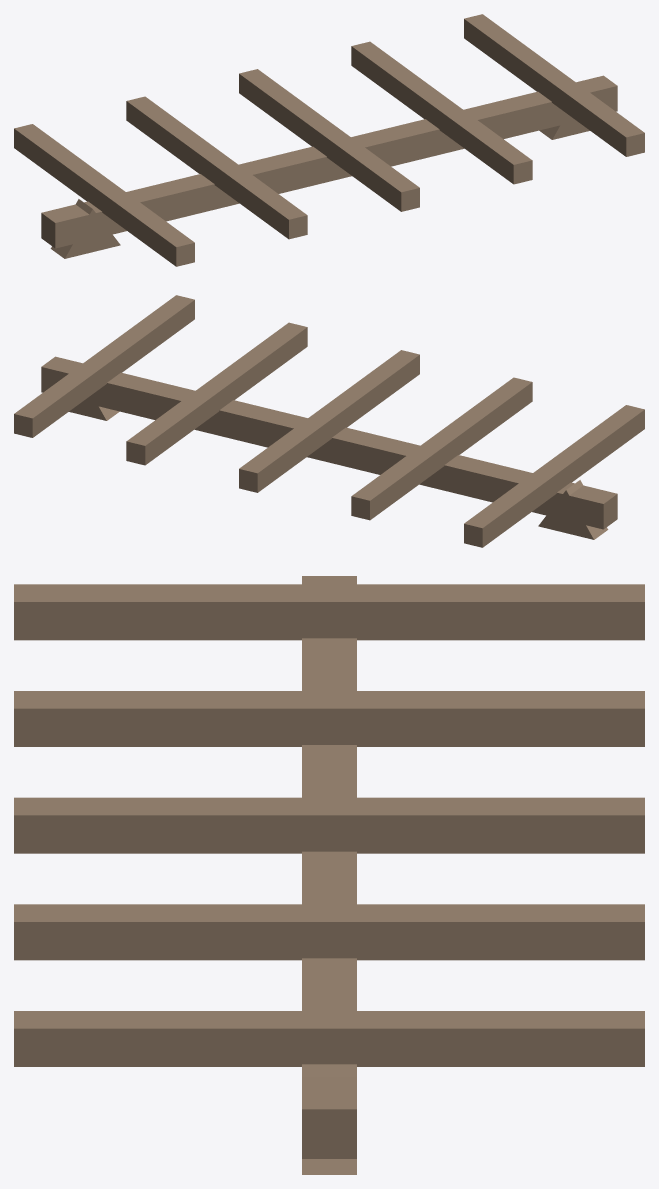
Rendered from martial-arts-dojo-and-fight-stages-roof-beams-49e003e0__18071.glb.
3 views of the same model, one above another, from view 1: azimuth 30°, elevation 25°; view 2: azimuth 150°, elevation 25°; view 3: azimuth 270°, elevation 25° (orthographic). The views are drawn at different scales.
Visible parts, largest first — view 1: roof-beams; view 2: roof-beams; view 3: roof-beams.
Part boxes in pixels (box(x1,y1,x2,y2)): roof-beams: box(14, 14, 644, 266); roof-beams: box(14, 295, 644, 547); roof-beams: box(14, 576, 644, 1174).
Bounding box in the file's own units: 6 × 0.5801 × 3.
